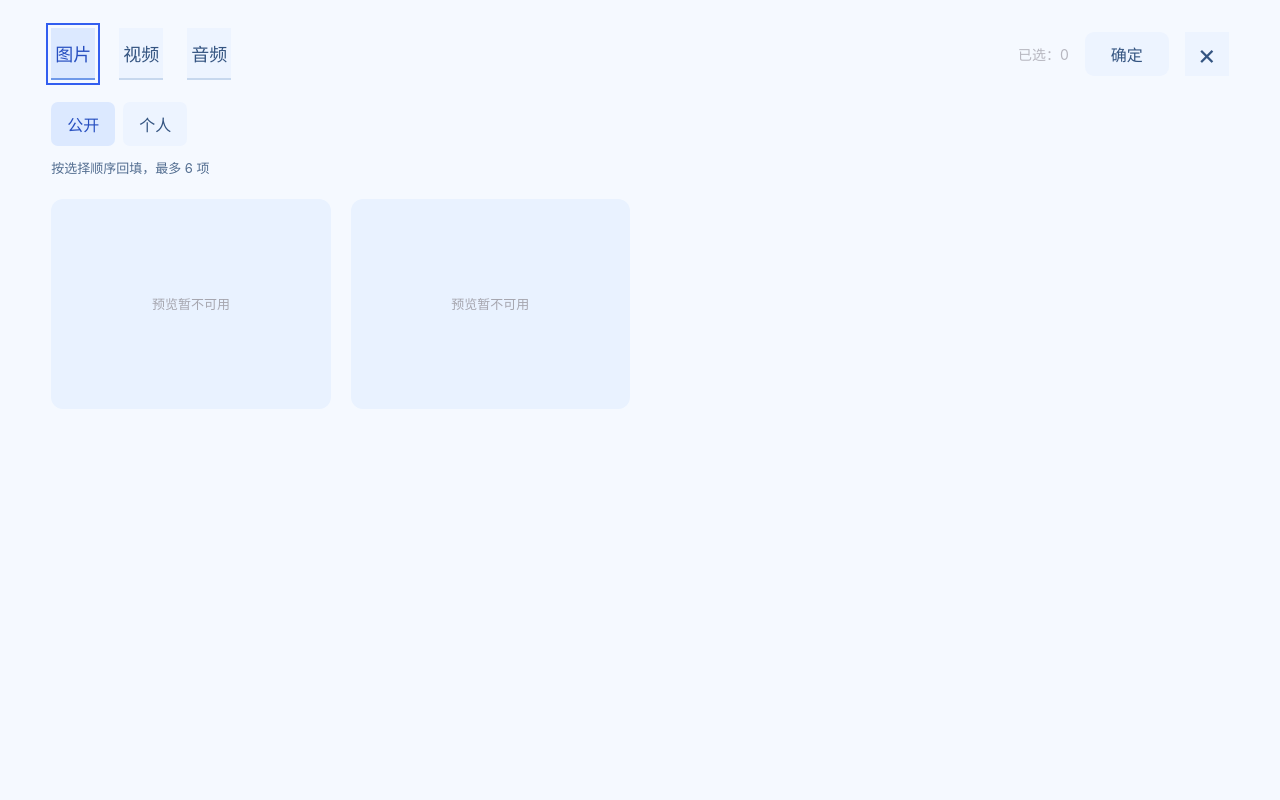
Scenario: creator media library › 素材库按分类展示真实预览且不使用 Base64 或外部协议
Expected: the option with aria-label "library.png" is shown, [51,199,331,408]
Click the tab "视频" at {"x": 141, "y": 54}, box [119,28,163,80]
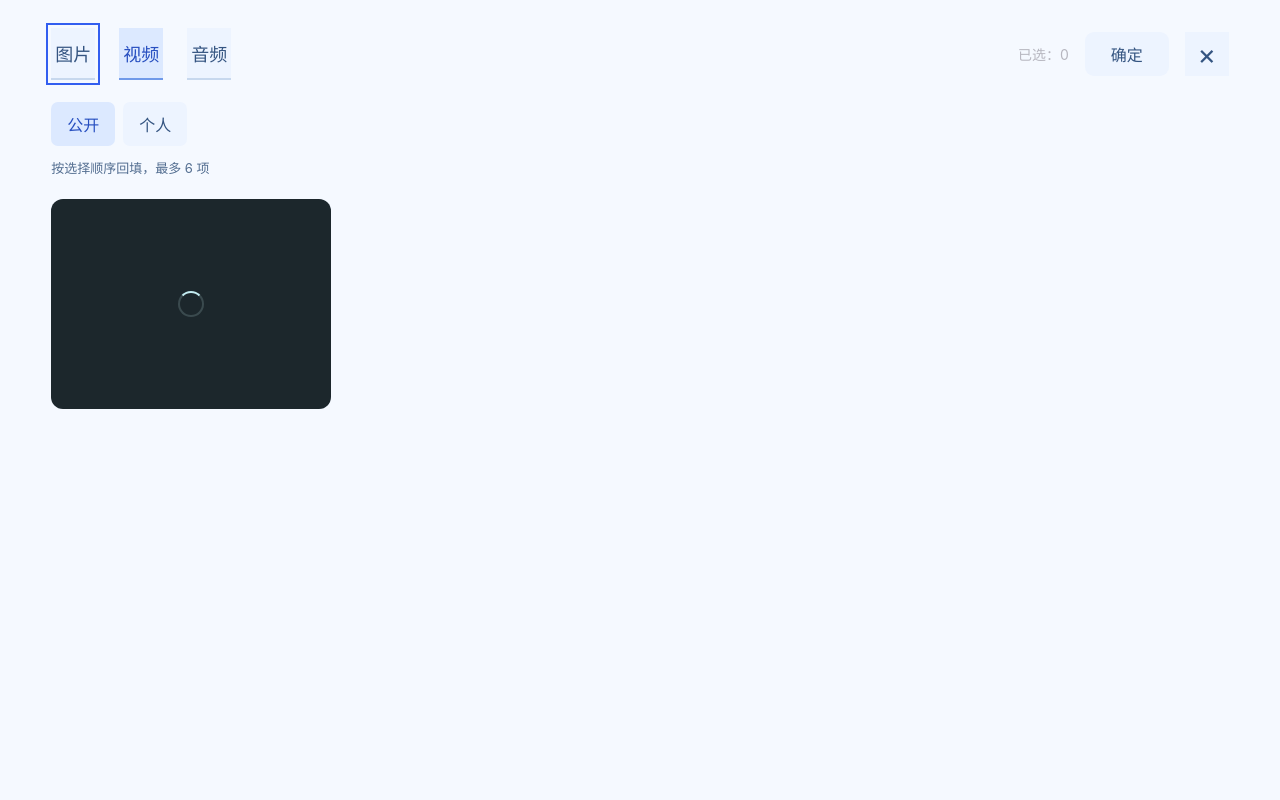
Click the tab "音频" at {"x": 209, "y": 54}, box [187,28,231,80]
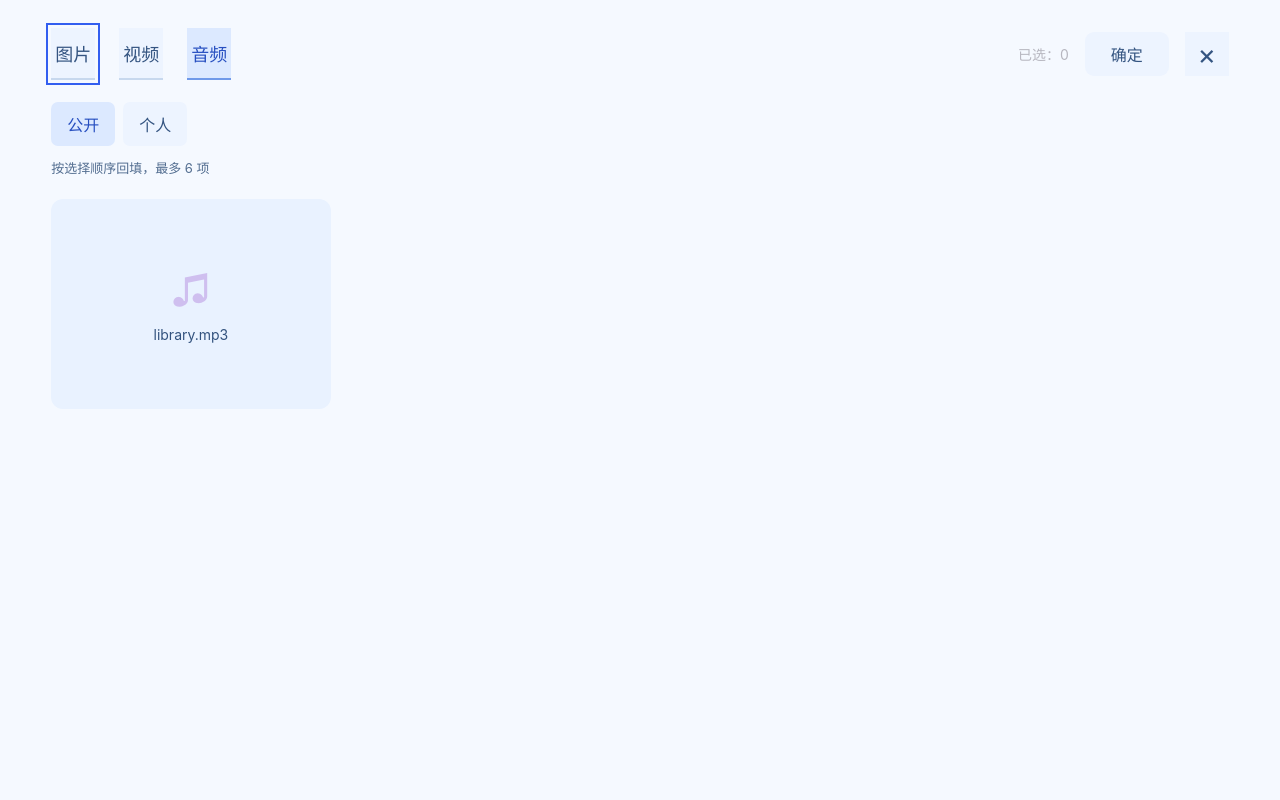
Expected: the option "♫ library.mp3" is shown, [51,199,331,408]
